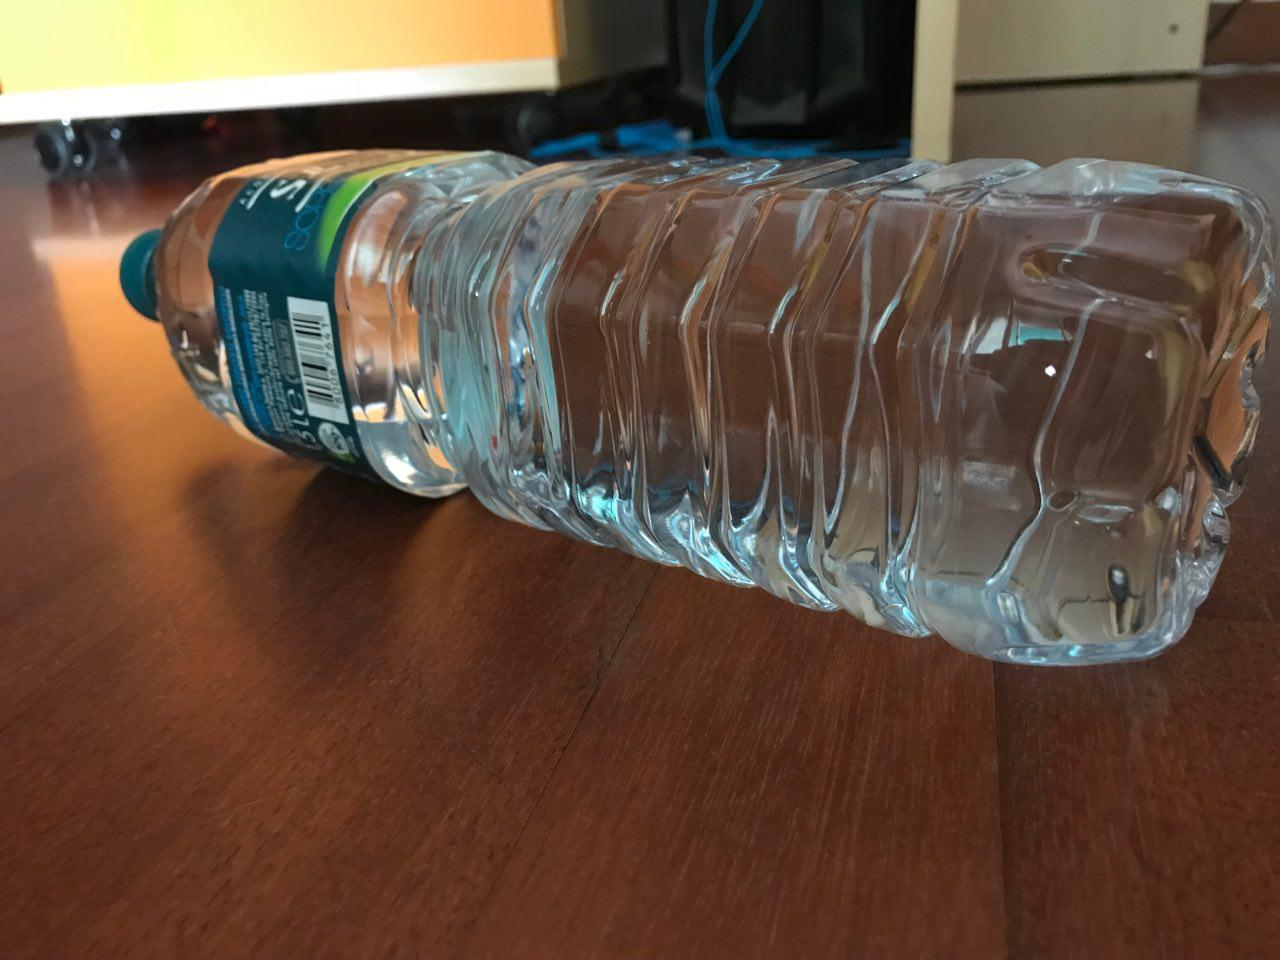san_bernardo: (117, 147, 1277, 670)
